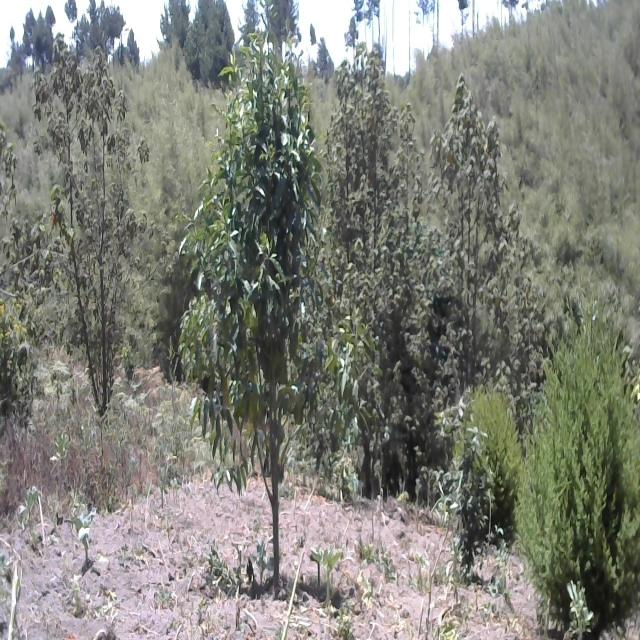Croton machrostychus: (24, 23, 153, 446), (326, 26, 436, 514), (434, 33, 522, 436)
Juniperus procesera: (534, 306, 640, 636), (449, 386, 529, 553)
Prunus Africana: (181, 23, 338, 599)
